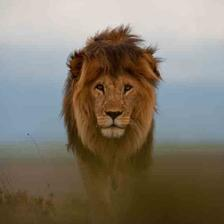Lion: (56, 24, 168, 187)
